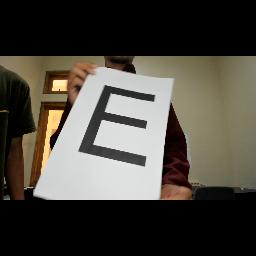e: (76, 82, 158, 170)
